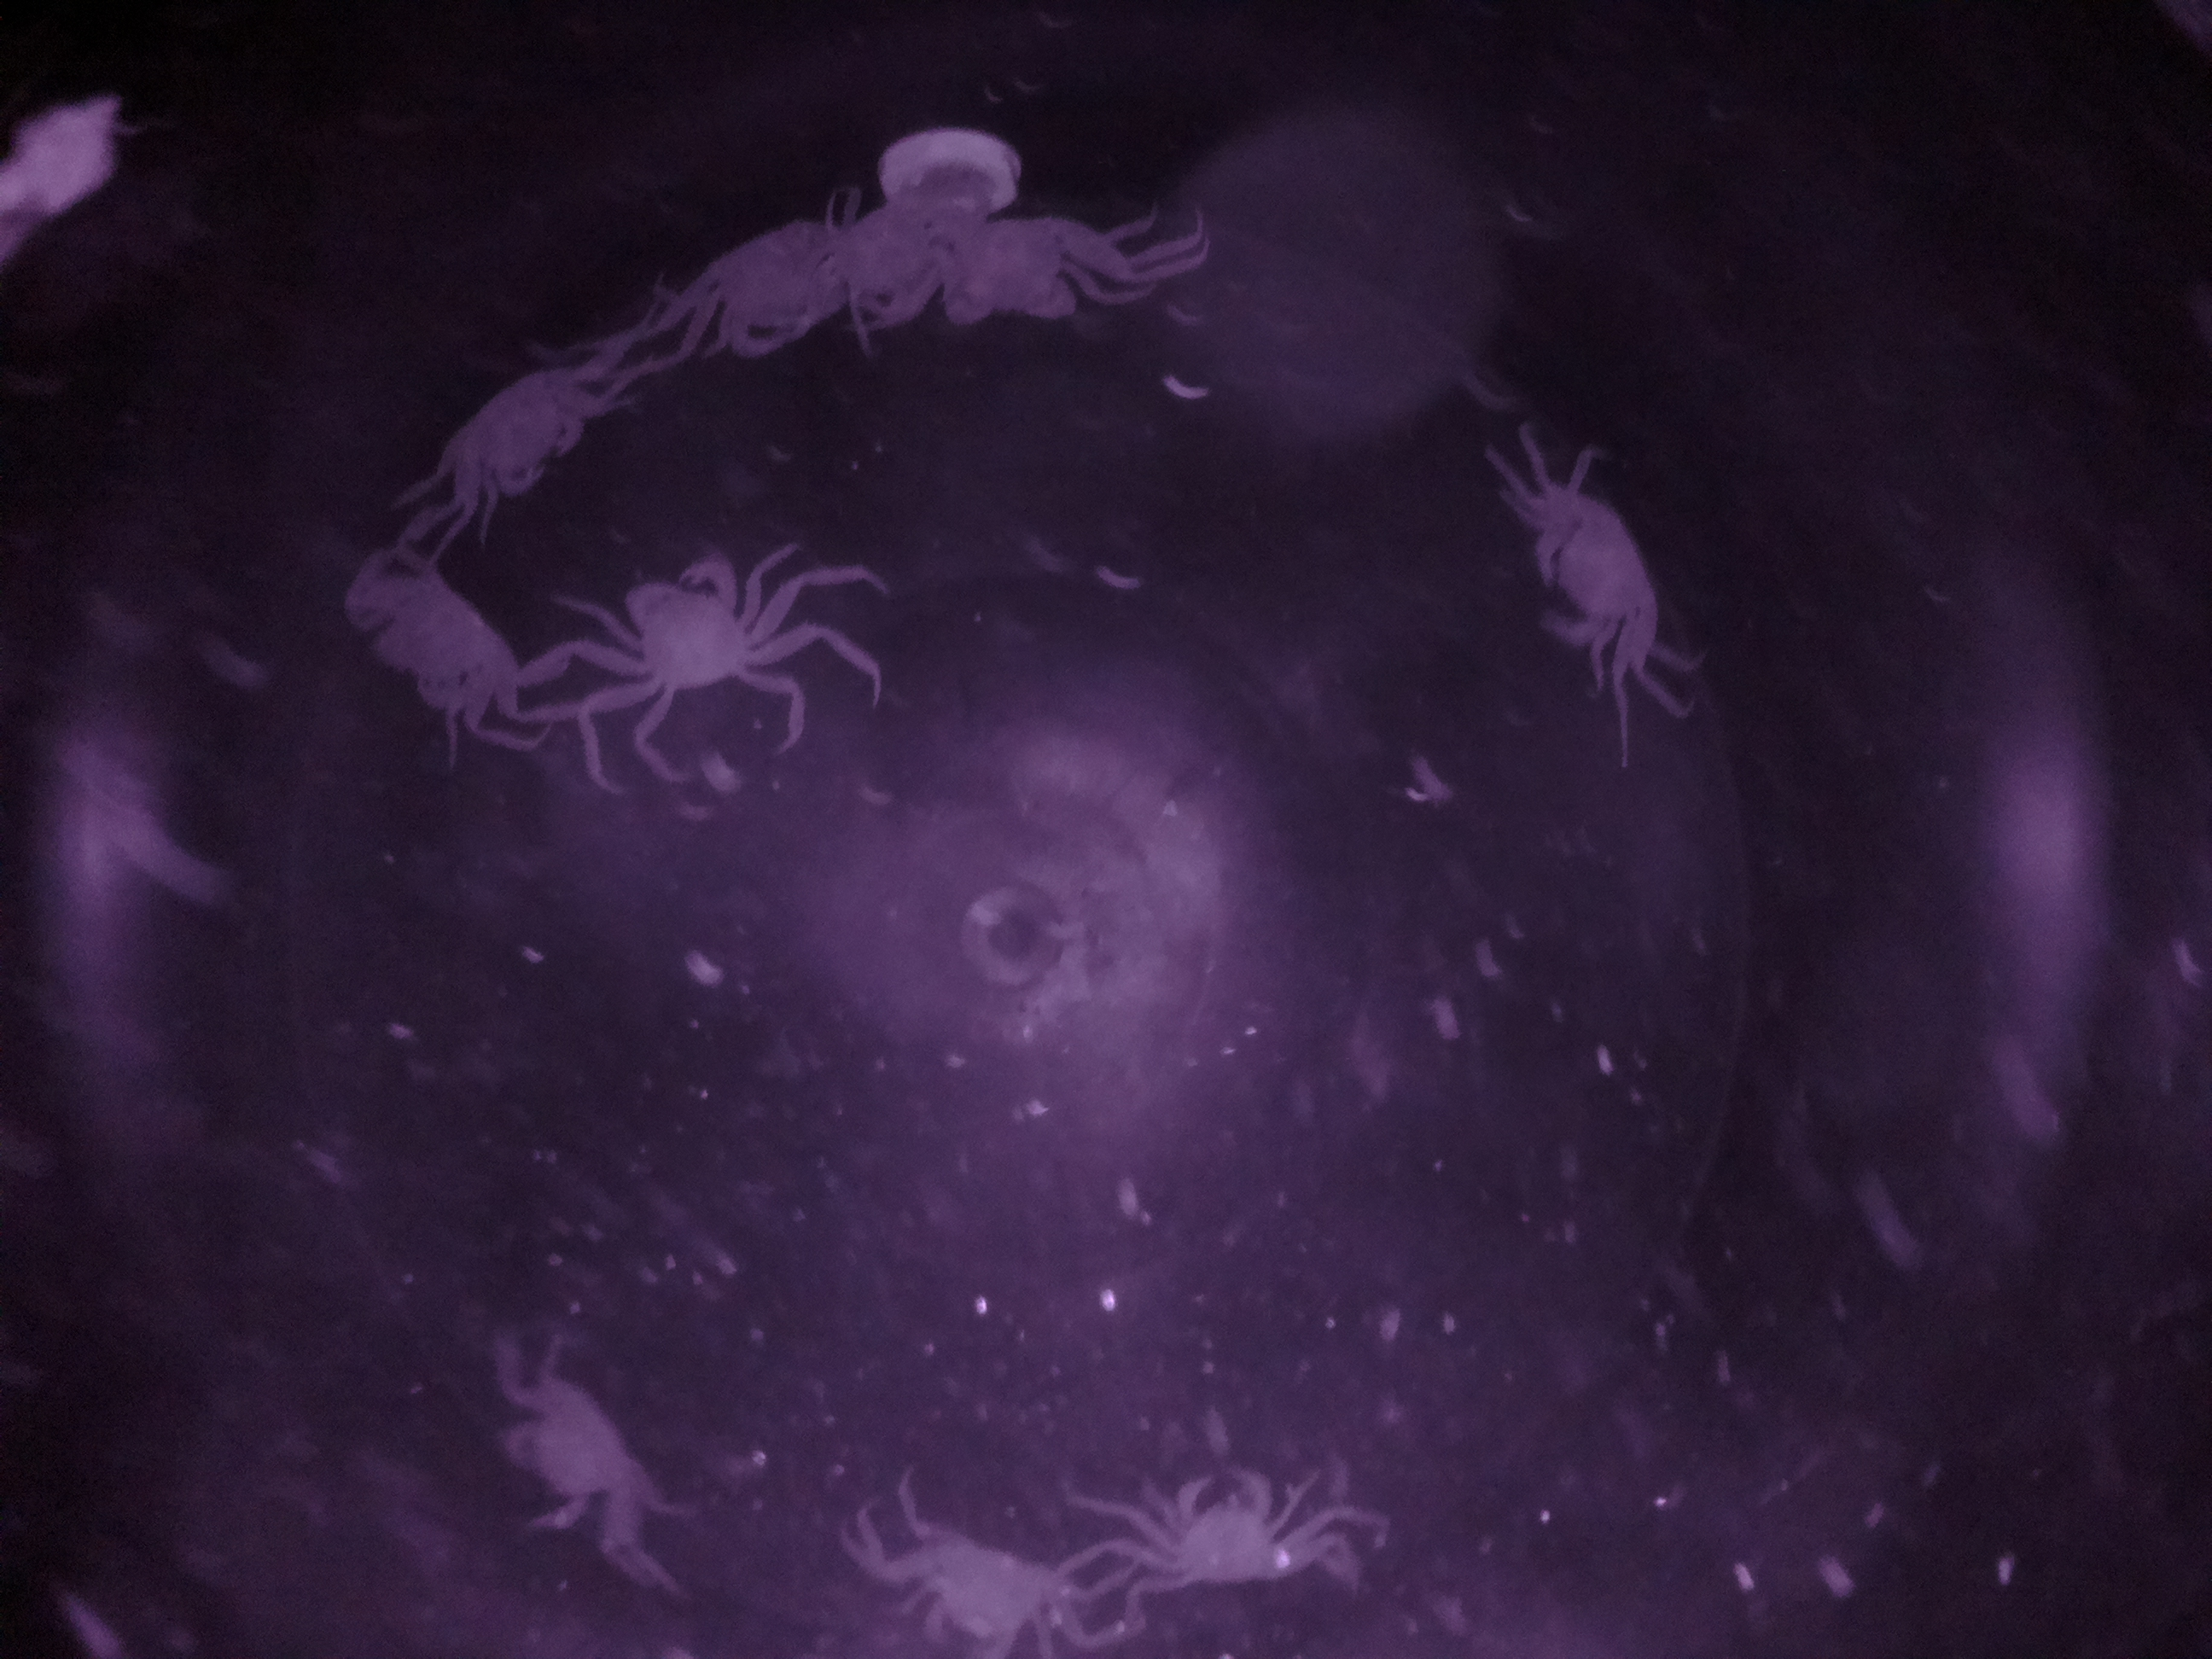Crab: (1519, 481, 1677, 674), (599, 538, 779, 709), (1146, 1452, 1308, 1615)
